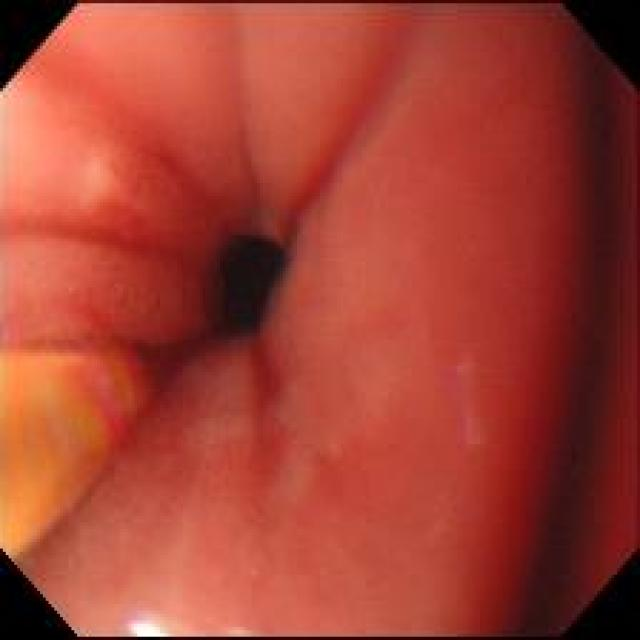color misalignment: (262, 275, 282, 313)
contrast: (214, 225, 290, 351)
instrument: (0, 329, 181, 551)
specularity: (130, 617, 169, 637)
